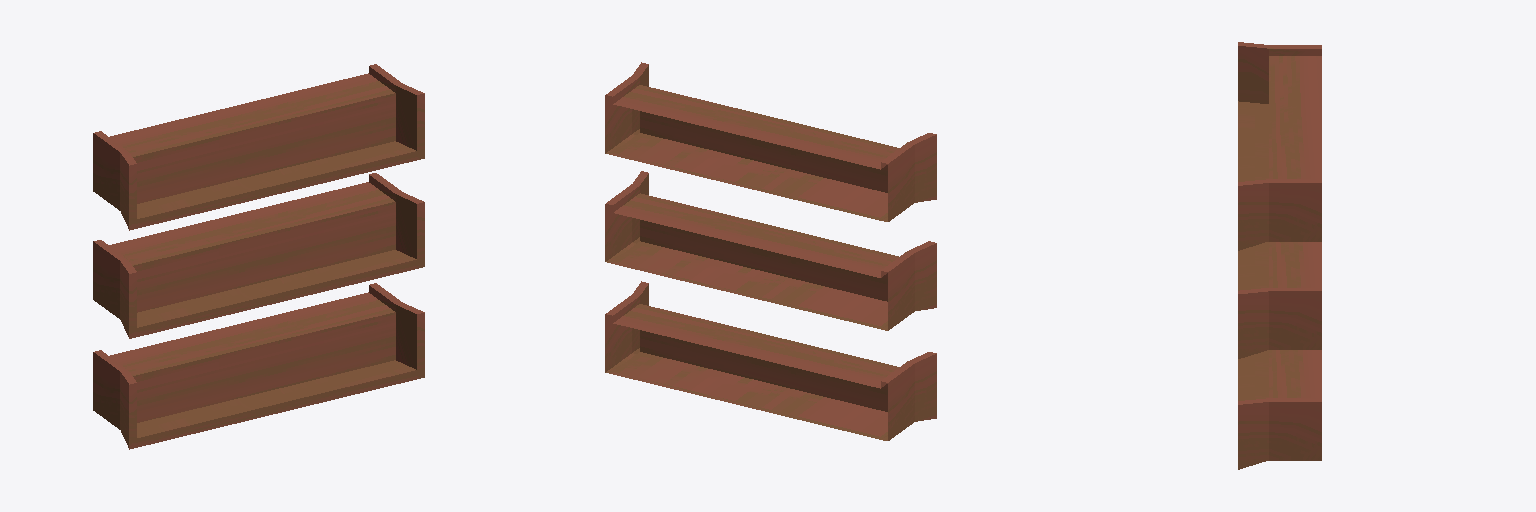
3 views of the same model, side by side, from view 1: azimuth 30°, elevation 25°; view 2: azimuth 150°, elevation 25°; view 3: azimuth 270°, elevation 25° (orthographic).
Parts seen in each view (by area): view 1: BenchC, BenchB, BenchA; view 2: BenchC, BenchA, BenchB; view 3: BenchA, BenchC, BenchB.
Boxes of the visible parts, x1=… form: BenchC: x1=93, y1=283, x2=424, y2=449; BenchB: x1=93, y1=173, x2=424, y2=338; BenchA: x1=93, y1=64, x2=424, y2=230; BenchC: x1=605, y1=281, x2=936, y2=440; BenchA: x1=605, y1=62, x2=936, y2=221; BenchB: x1=605, y1=171, x2=936, y2=330; BenchA: x1=1238, y1=42, x2=1321, y2=250; BenchC: x1=1238, y1=350, x2=1321, y2=469; BenchB: x1=1238, y1=242, x2=1321, y2=358.
Size of the model in its own units: 1.9 by 1.75 by 0.4724.
1 materials, 1 textured.